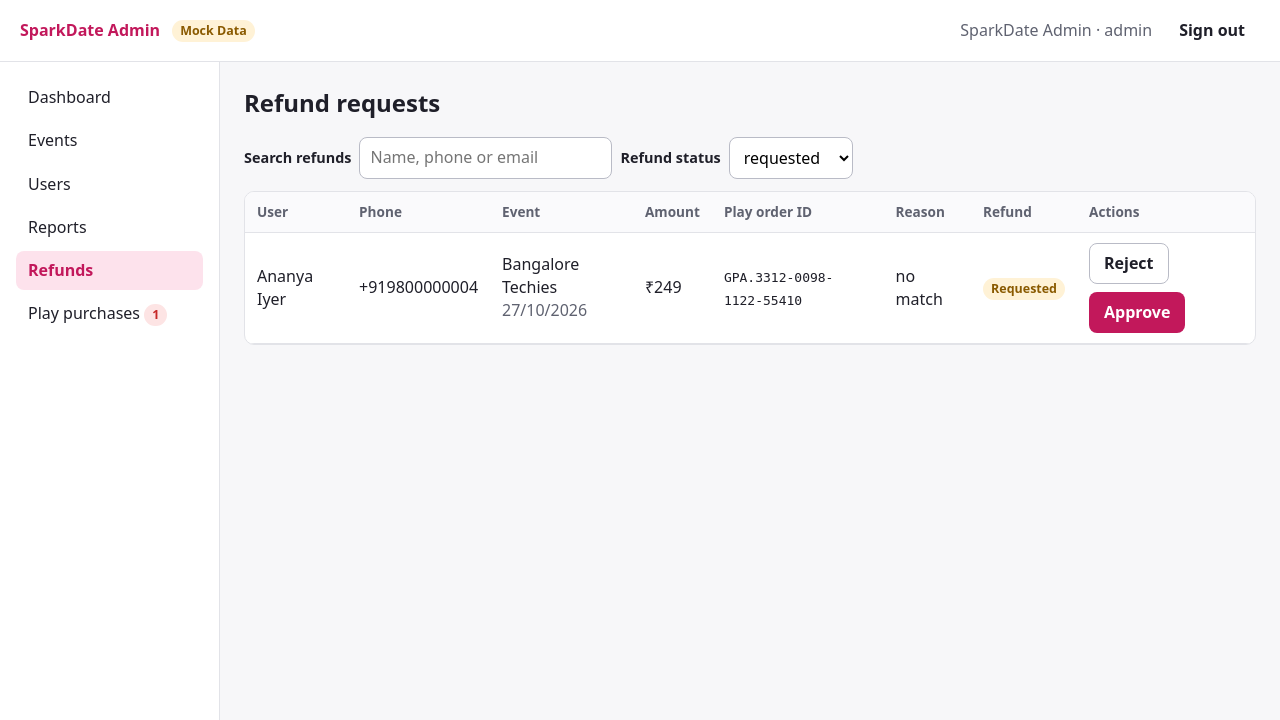
pages (mock API) › refunds: q search (debounced, in URL) filters by user
Expected: the text "Ananya Iyer" is shown, x1=245 y1=233 x2=347 y2=344
Expected: the text "+919800000004" is shown, x1=347 y1=233 x2=490 y2=344
Type "kabir" into the search field labelled "Search refunds".
click(486, 158); type("kabir")  # box x1=360 y1=137 x2=612 y2=179
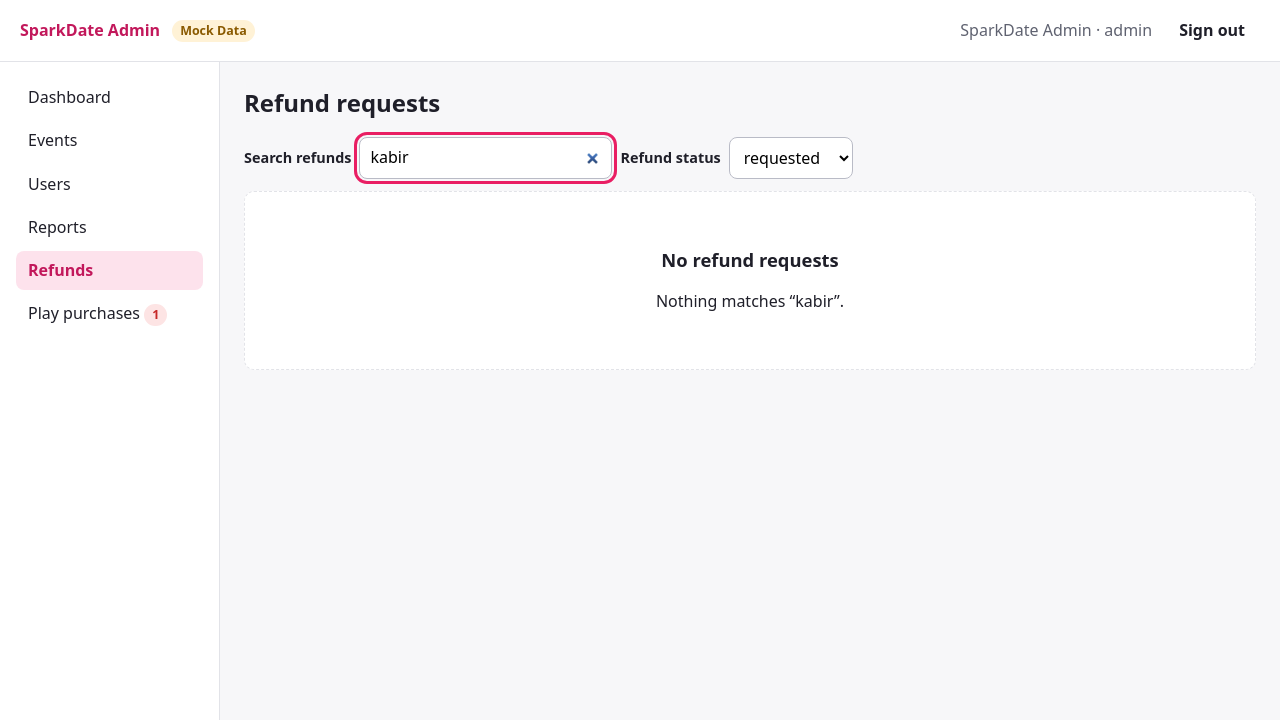
Expected: the text "Nothing matches “kabir”." is shown, x1=656 y1=290 x2=844 y2=312
